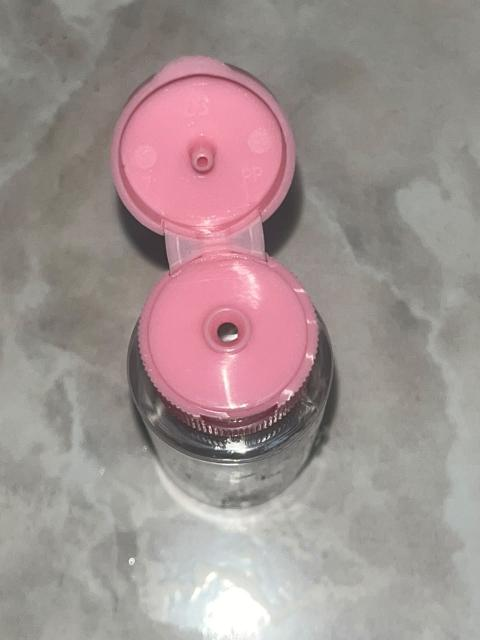PET: (67, 12, 387, 550)
